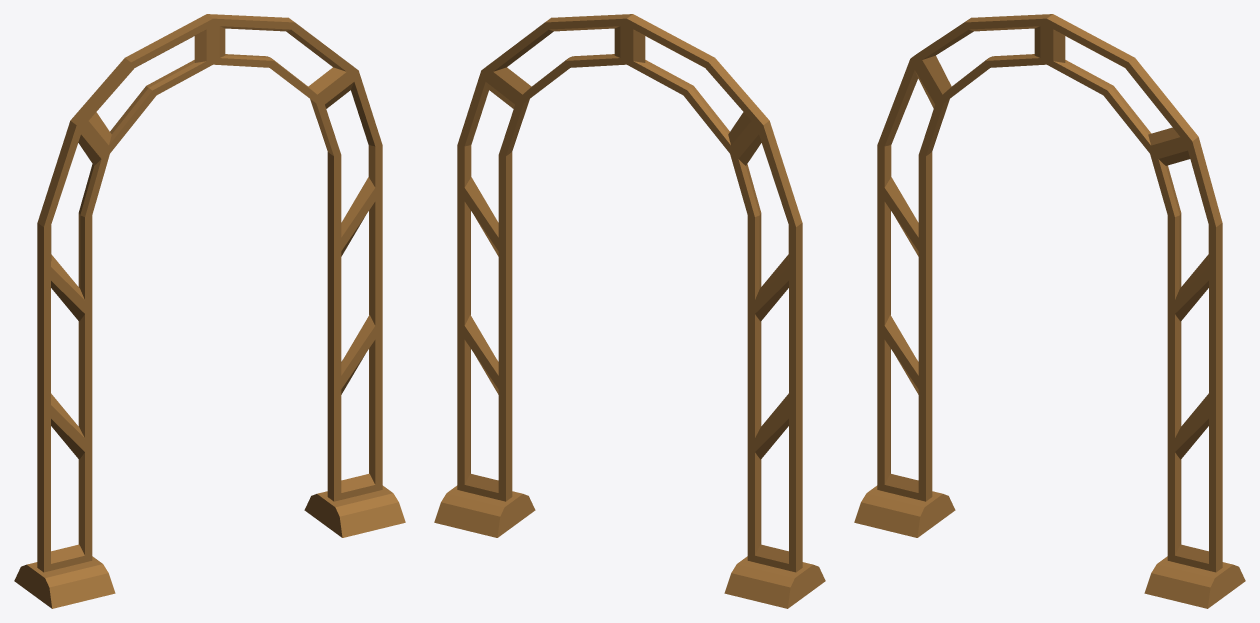
The model's file is props_wedding-arch.fbx.
The picture shows the model from 3 angles, left to right: view 1: azimuth 30°, elevation 25°; view 2: azimuth 150°, elevation 25°; view 3: azimuth 330°, elevation 25°; orthographic projection.
Visible parts, largest first — view 1: props_wedding_arch; view 2: props_wedding_arch; view 3: props_wedding_arch.
Part boxes in pixels (left/top/right/bottom): props_wedding_arch: left=14, top=14, right=405, bottom=608; props_wedding_arch: left=434, top=14, right=825, bottom=608; props_wedding_arch: left=854, top=14, right=1245, bottom=608.
Size of the model in its own units: 138 by 200 by 25.78.
